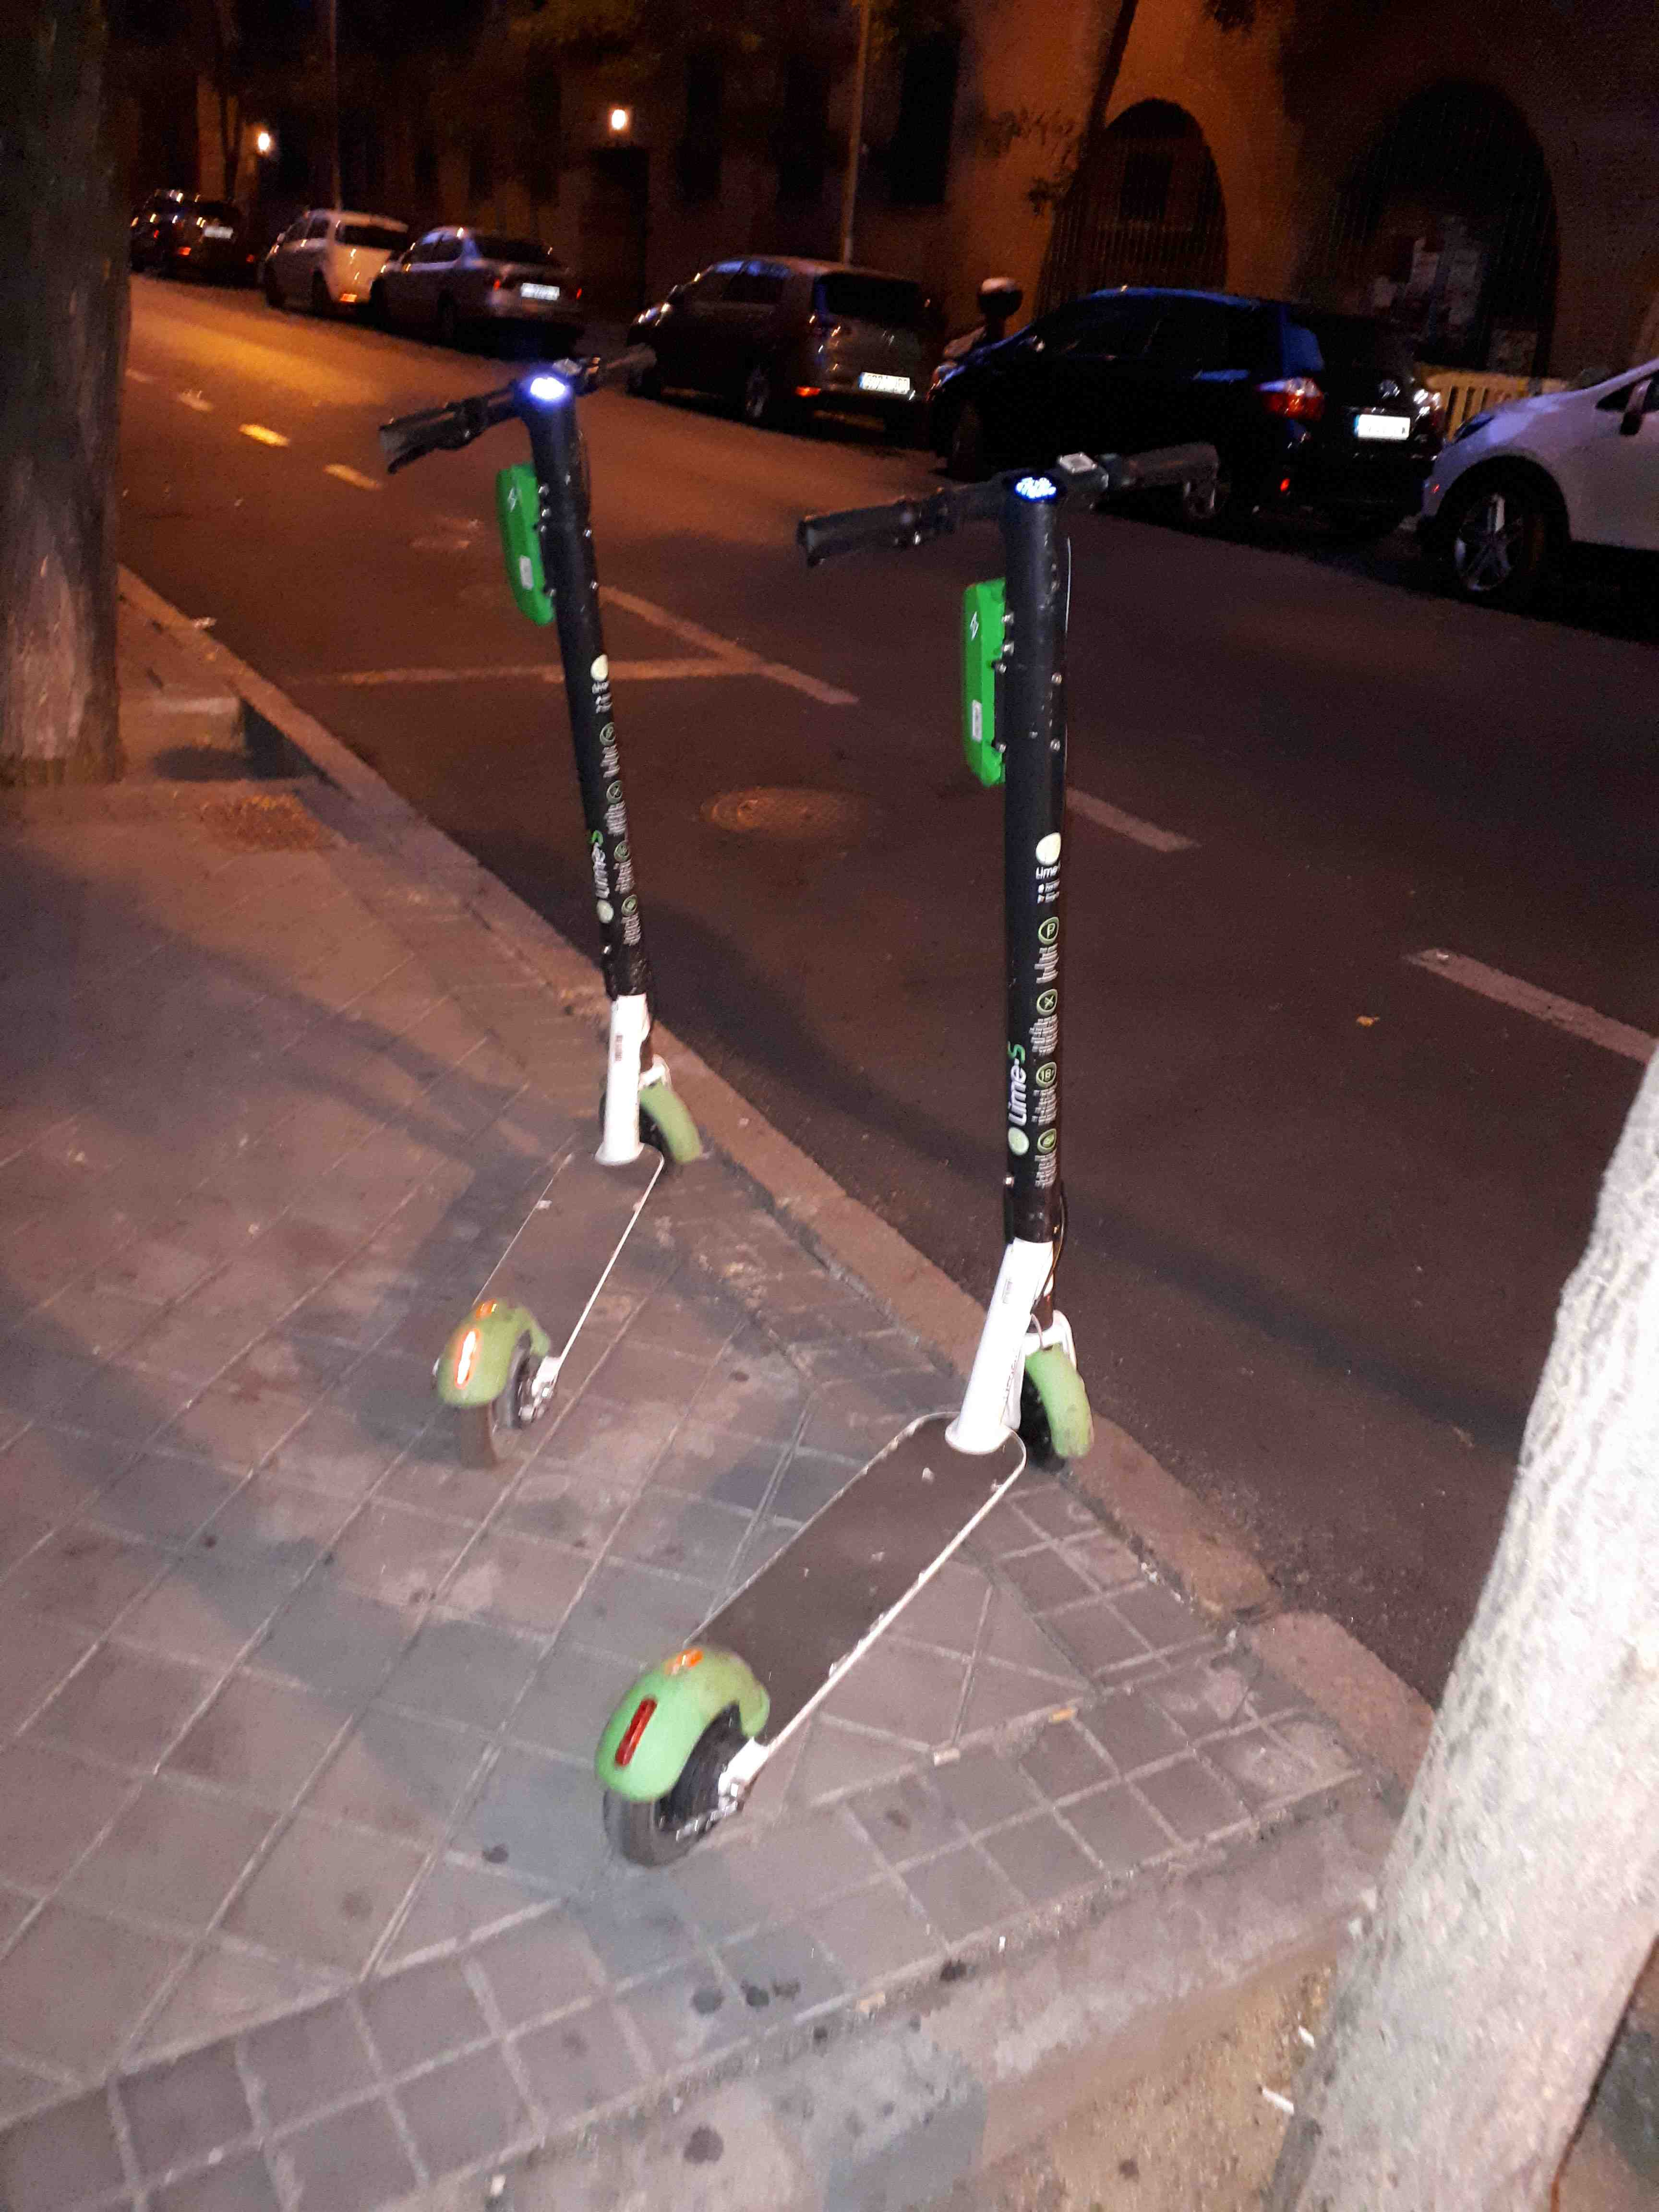too close: (904, 1294, 1178, 1541), (535, 1000, 774, 1224)
